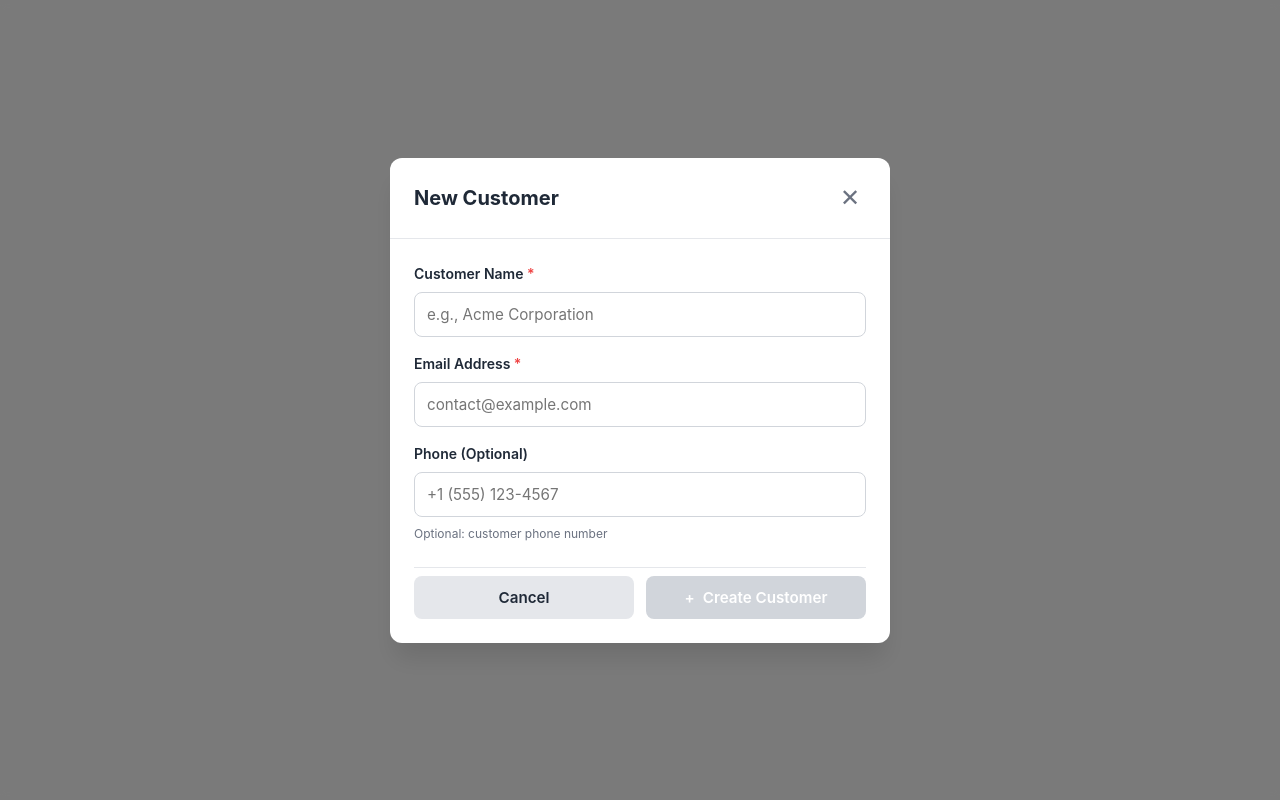
Scenario: CreateCustomerModal › should enable submit button when required fields are filled
Expected: the button "+ Create Customer" is disabled, [646,576,866,618]
Type "Test Company" into the field labelled "Customer Name *". click: [640, 314]
box: [414,292,866,336]
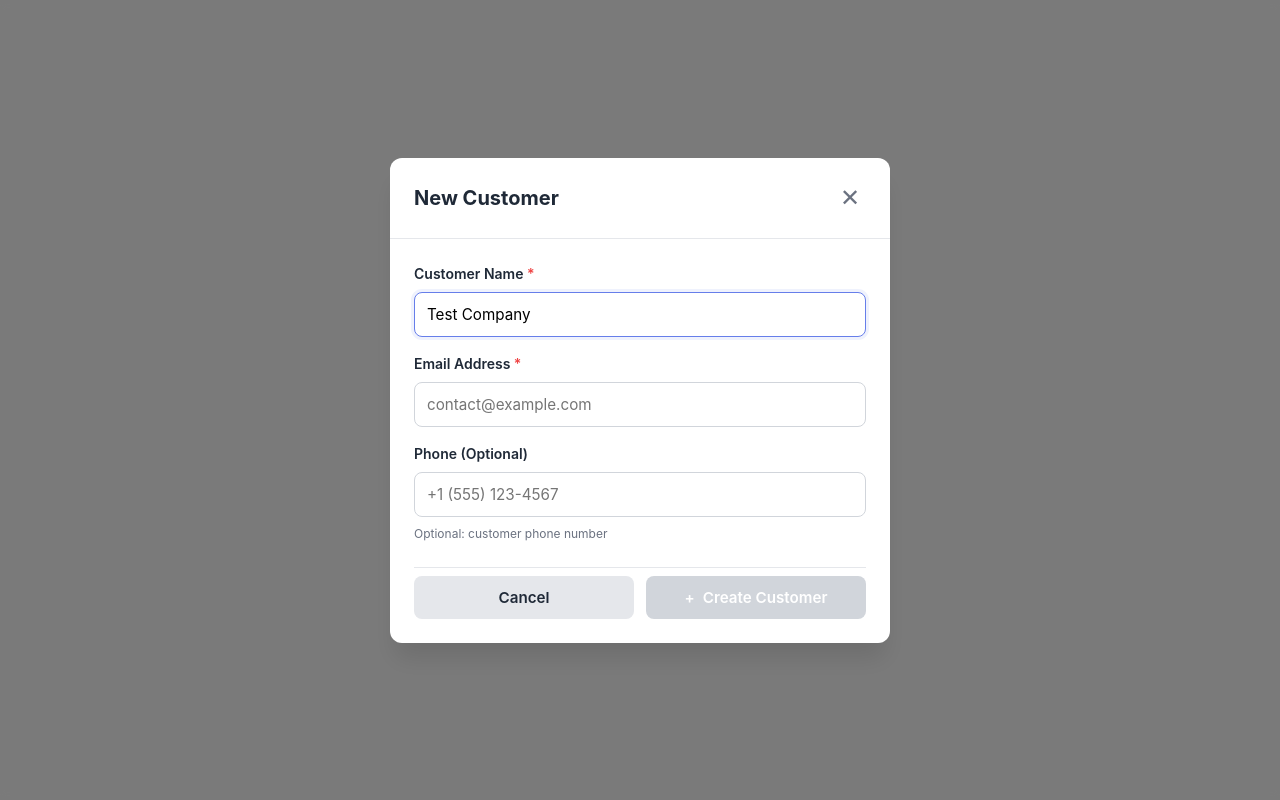
Type "test@company.com" into the field labelled "Email Address *". click: [640, 404]
box: [414,382,866,426]
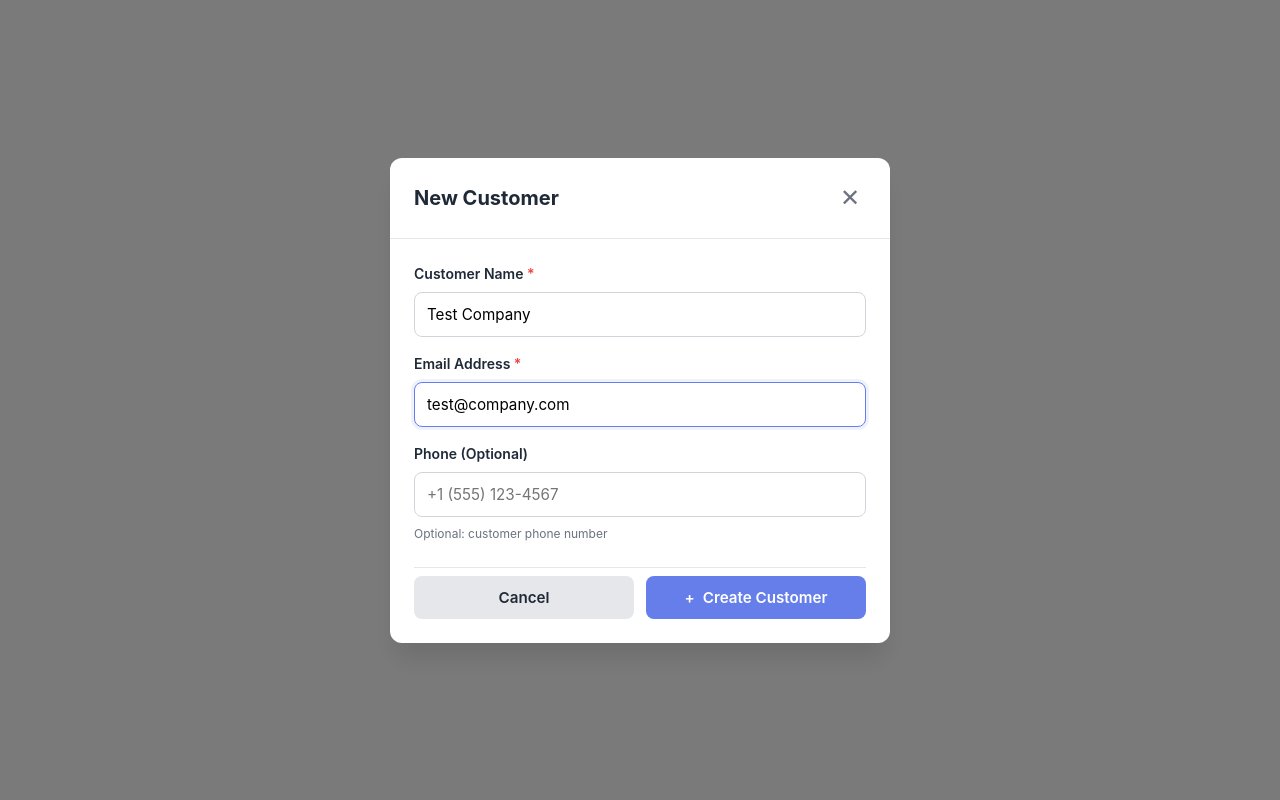
Now the button "+ Create Customer" is enabled, box [646,576,866,618]
